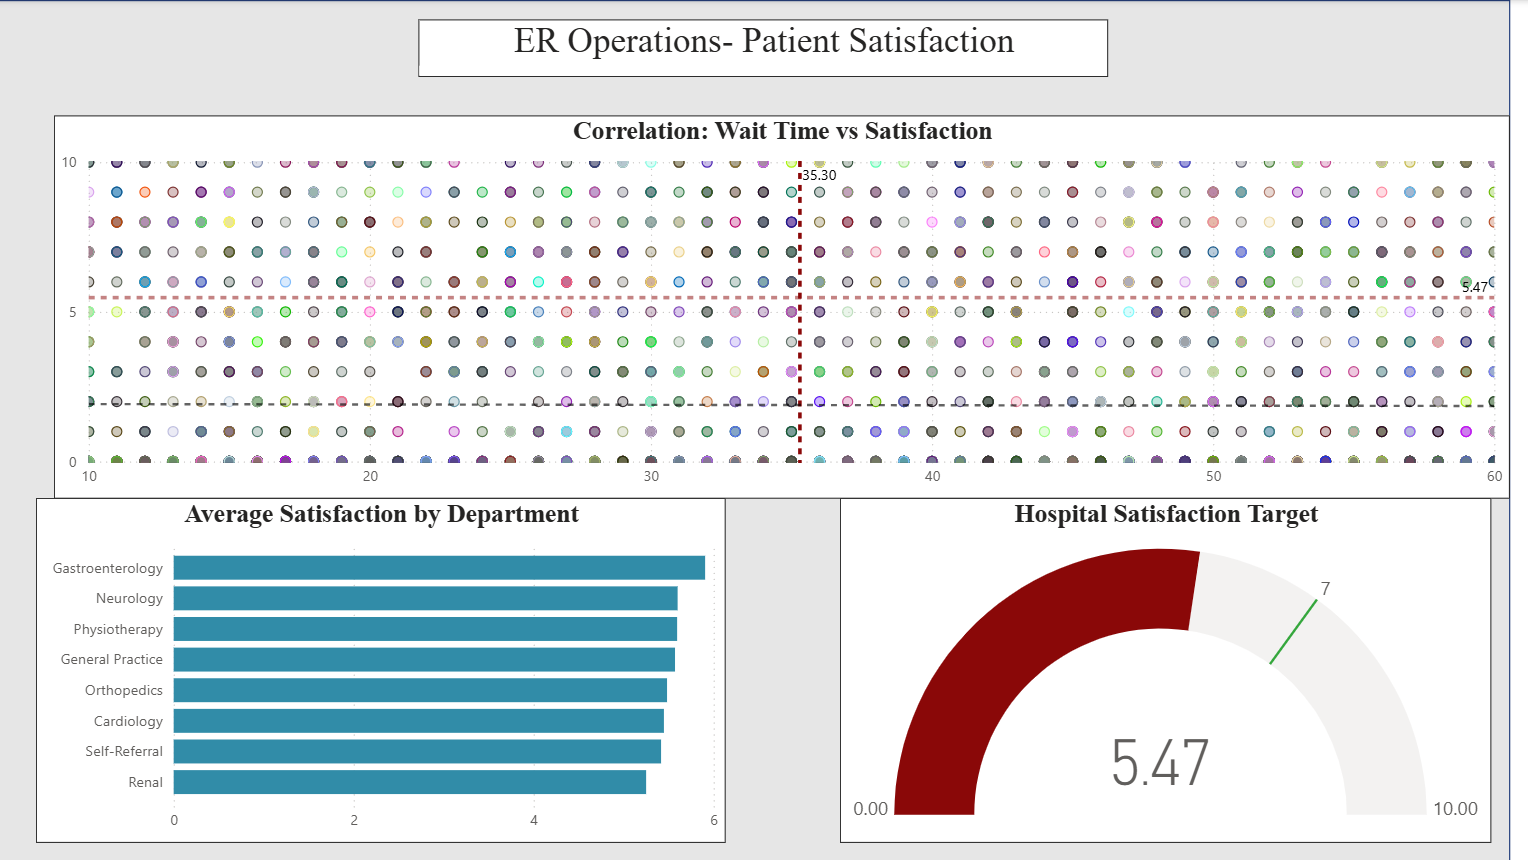

Layout of this report page (visuals, bound fields, positions):
{"tool":"powerbi","page":{"name":"Patient Satisfaction","canvas":[1280,720],"ordinal":3},"visuals":[{"type":"shape","box":[0,0,1264,720],"z":0},{"type":"shape","title":"ER Operations- Patient Satisfaction","box":[352,16,576,48],"z":1000},{"type":"scatterChart","title":"Correlation: Wait Time vs Satisfaction","fields":{"X":["er ER_Visits.PATIENT_WAITTIME"],"Y":["er ER_Visits.PATIENT_SATISFACTION_SCORE"],"Series":["er ER_Visits.PATIENT_ID"]},"box":[48,96,1216,320],"z":2000},{"type":"clusteredBarChart","title":"Average Satisfaction by Department","fields":{"Y":["er ER_Visits.AVERAGE SATISFACTION SCORE"],"Category":["er ER_Visits.DEPARTMENT_REFERRAL"]},"box":[32,416,576,288],"z":3000},{"type":"gauge","title":"Hospital Satisfaction Target","fields":{"Y":["er ER_Visits.AVERAGE SATISFACTION SCORE"]},"box":[704,416,544,288],"z":4000}]}

Visuals, with their boxes in screenshot pixels (x1, y1, x2, y2), scaled from the page's 1280x720 canvas onto the 1528x860 screenshot:
shape: Rect(0, 0, 1509, 859)
"ER Operations- Patient Satisfaction" shape: Rect(420, 19, 1108, 76)
"Correlation: Wait Time vs Satisfaction" scatterChart: Rect(57, 115, 1509, 497)
"Average Satisfaction by Department" clusteredBarChart: Rect(38, 497, 726, 841)
"Hospital Satisfaction Target" gauge: Rect(840, 497, 1490, 841)
